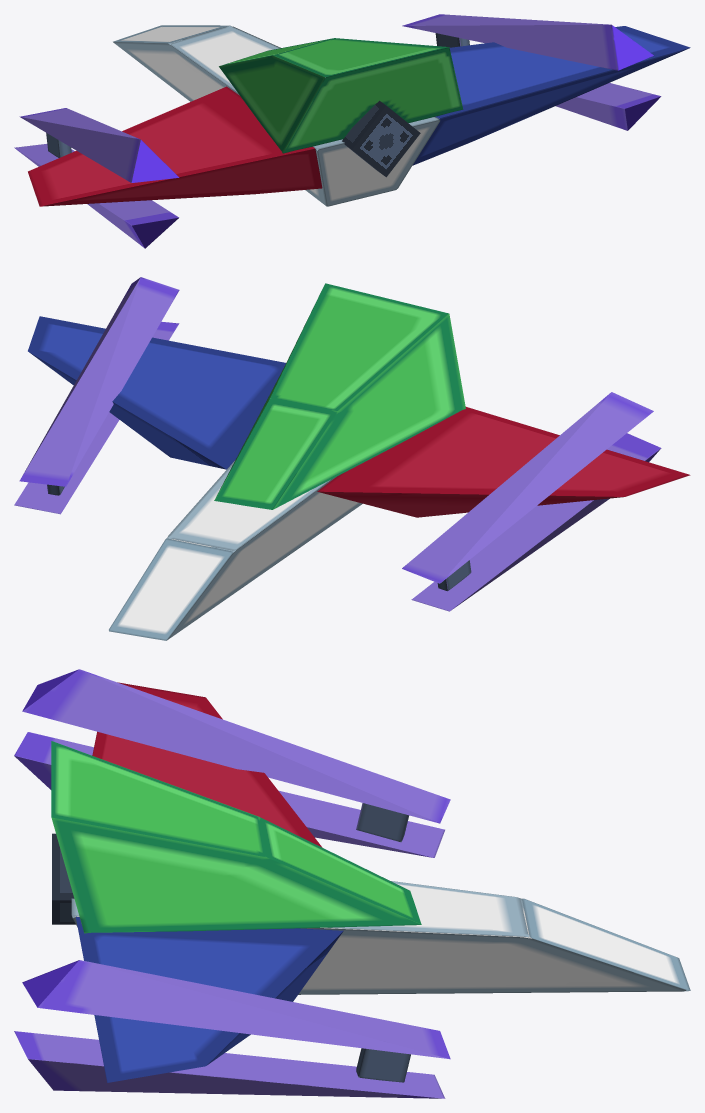
The model's file is SpaceShip 1.fbx.
3 renders of one model, top to bottom at view 1: azimuth 30°, elevation 25°; view 2: azimuth 150°, elevation 25°; view 3: azimuth 270°, elevation 25°, orthographic. The views are drawn at different scales.
Visible parts, largest first — view 1: Cabina, Ala Izquierda, Ala derecha, Base, Arma arriba derecha, Arma arriba izquierda, Propulsor, Arma abajo izquierda, arma abajo derecha, Union de armas izquierda; view 2: Cabina, Ala Izquierda, Ala derecha, Base, Arma arriba izquierda, Arma arriba derecha, Arma abajo izquierda, arma abajo derecha; view 3: Cabina, Base, Ala derecha, Arma arriba izquierda, Arma arriba derecha, arma abajo derecha, Ala Izquierda, Arma abajo izquierda, Union de armas derecha, Propulsor, Union de armas izquierda.
Part boxes in pixels (box(x1,y1,x2,y2)): Cabina: box(219, 38, 463, 153); Ala Izquierda: box(28, 86, 322, 206); Ala derecha: box(412, 26, 690, 165); Base: box(113, 25, 440, 206); Arma arriba derecha: box(402, 14, 653, 70); Arma arriba izquierda: box(19, 108, 179, 182); Propulsor: box(342, 100, 420, 177); Arma abajo izquierda: box(14, 144, 178, 248); arma abajo derecha: box(556, 83, 661, 130); Union de armas izquierda: box(46, 133, 71, 157); Cabina: box(214, 283, 465, 509); Ala Izquierda: box(317, 407, 690, 517); Ala derecha: box(28, 316, 285, 469); Base: box(109, 460, 362, 640); Arma arriba izquierda: box(402, 392, 653, 583); Arma arriba derecha: box(19, 277, 179, 486); Arma abajo izquierda: box(411, 433, 661, 611); arma abajo derecha: box(14, 321, 179, 514); Cabina: box(51, 741, 421, 933); Base: box(71, 881, 690, 994); Ala derecha: box(76, 916, 343, 1082); Arma arriba izquierda: box(22, 669, 450, 823); Arma arriba derecha: box(22, 960, 450, 1059); arma abajo derecha: box(14, 1031, 445, 1098); Ala Izquierda: box(92, 682, 322, 847); Arma abajo izquierda: box(14, 732, 444, 857); Union de armas derecha: box(356, 1048, 410, 1082); Propulsor: box(52, 833, 75, 924); Union de armas izquierda: box(356, 803, 409, 842).
Size of the model in its own units: 1509 by 342 by 1073.
6 materials, 6 textured.
